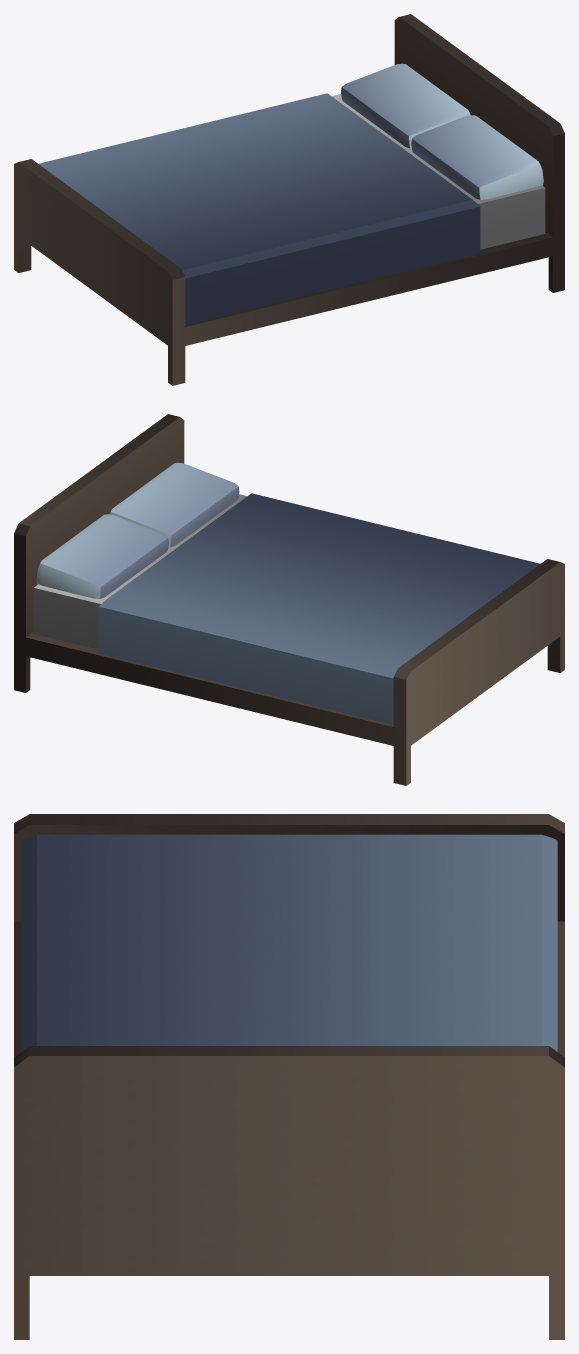
The model's file is bed_bedroom.fbx.
3 views of the same model, one above another, from view 1: azimuth 30°, elevation 25°; view 2: azimuth 150°, elevation 25°; view 3: azimuth 270°, elevation 25° (orthographic). The views are drawn at different scales.
Visible parts, largest first — view 1: Box003, Box001, Box005, Box006, Box002; view 2: Box003, Box001, Box006, Box005, Box002; view 3: Box001, Box003.
Boxes of the visible parts, x1,y1,x2,y2 form: Box003: [38, 93, 480, 324]; Box001: [14, 14, 564, 385]; Box005: [411, 115, 543, 199]; Box006: [341, 63, 470, 148]; Box002: [332, 94, 545, 249]; Box003: [98, 493, 540, 724]; Box001: [14, 414, 564, 785]; Box006: [36, 514, 168, 598]; Box005: [109, 462, 239, 547]; Box002: [33, 494, 246, 649]; Box001: [14, 814, 564, 1339]; Box003: [21, 834, 557, 1051].
Bounding box in the file's own units: 2 × 0.796 × 1.4.
